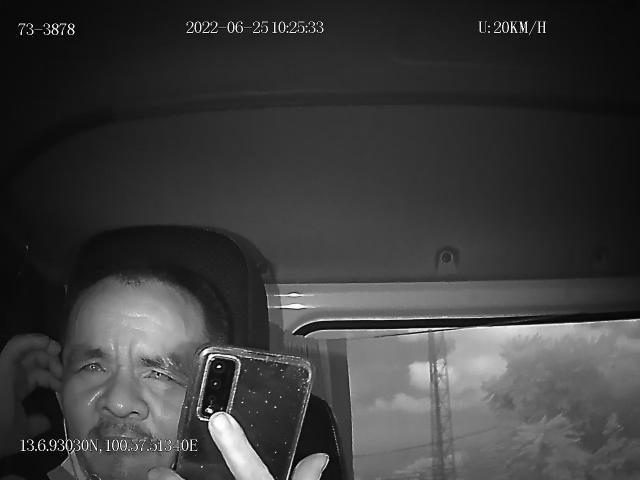PhoneUse: (171, 344, 315, 480)
SafeDriving: (135, 352, 182, 388), (71, 348, 114, 381)
